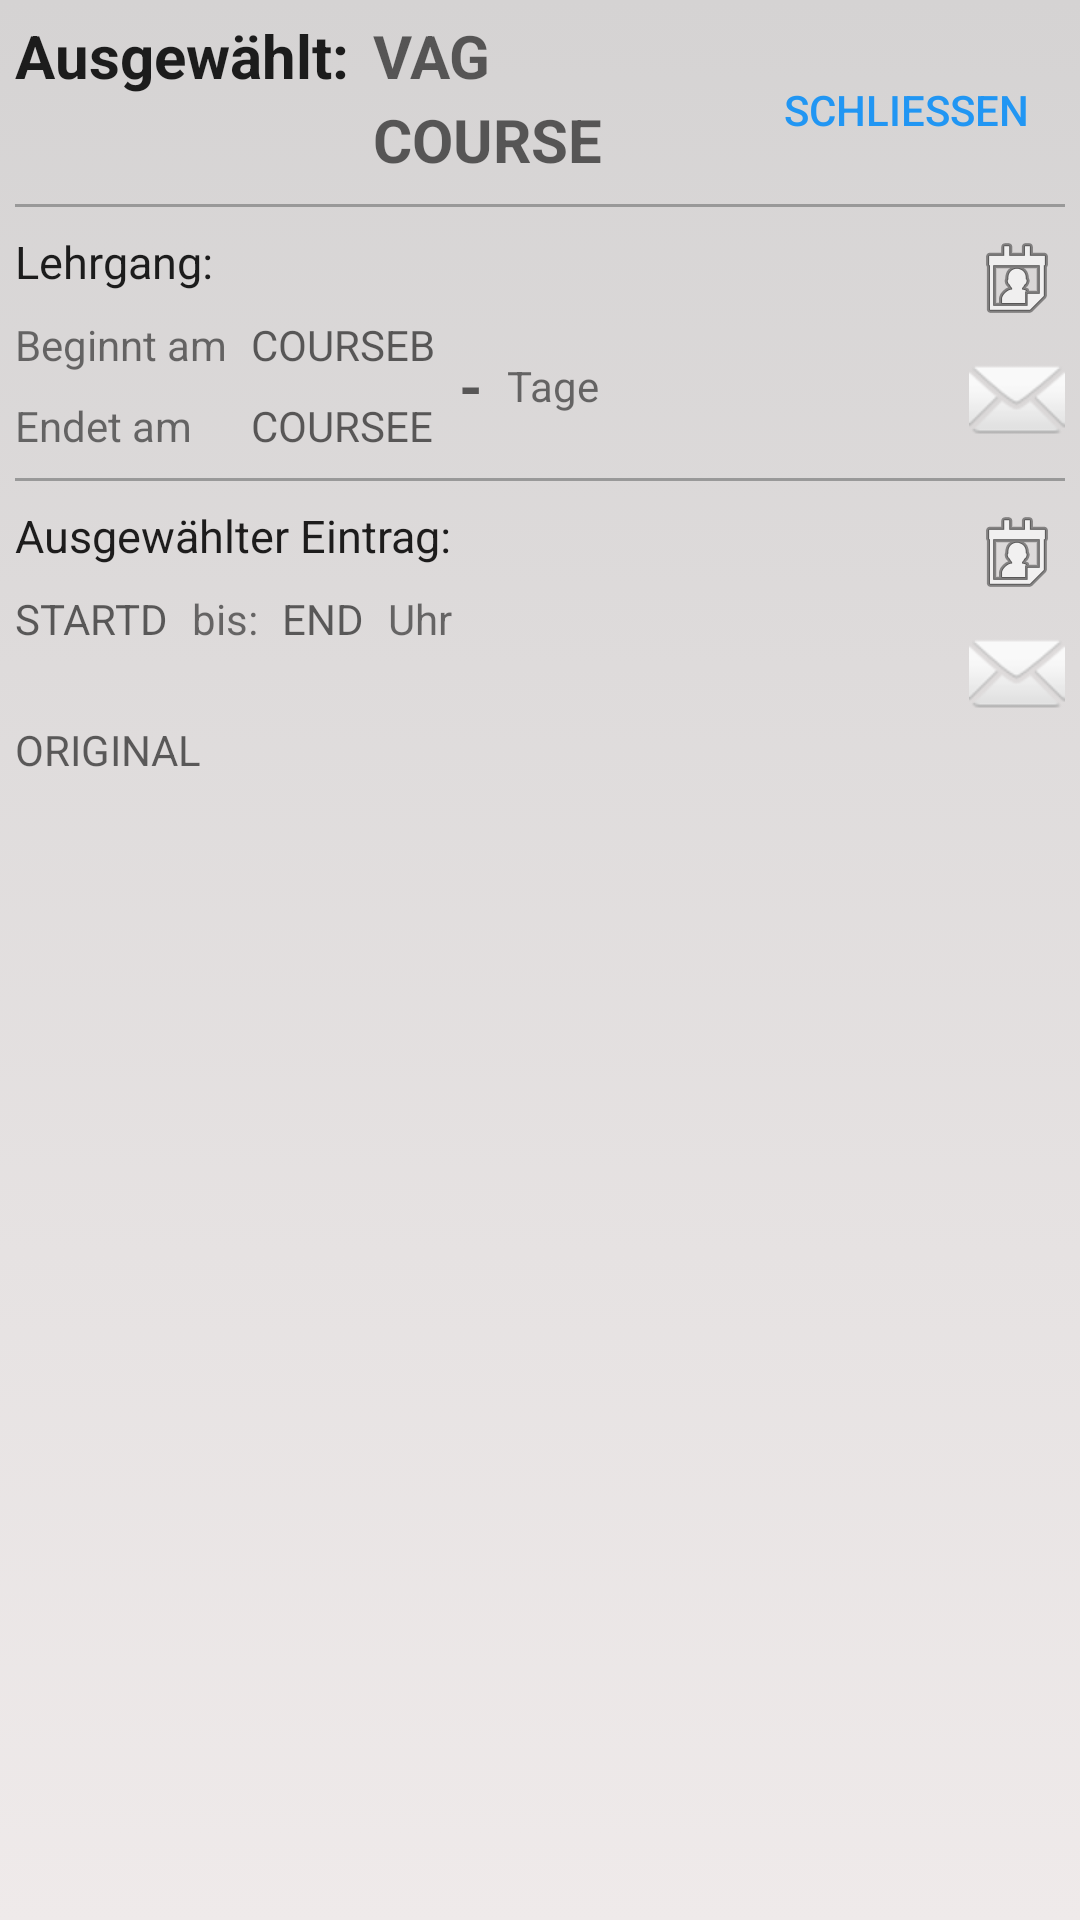

Named icons in this screenshot (1080w x 1920h) and their centers, (x=x, y=y):
calendar: (x=1017, y=278), (x=1017, y=552)
email: (x=1017, y=400), (x=1017, y=674)
